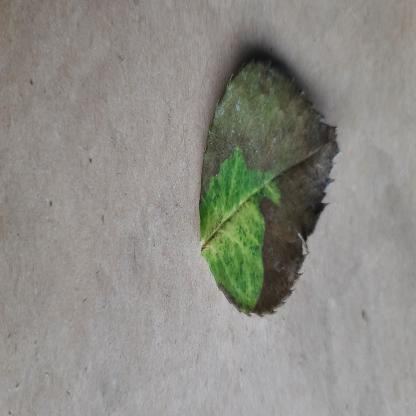black-spot: (197, 52, 344, 322)
